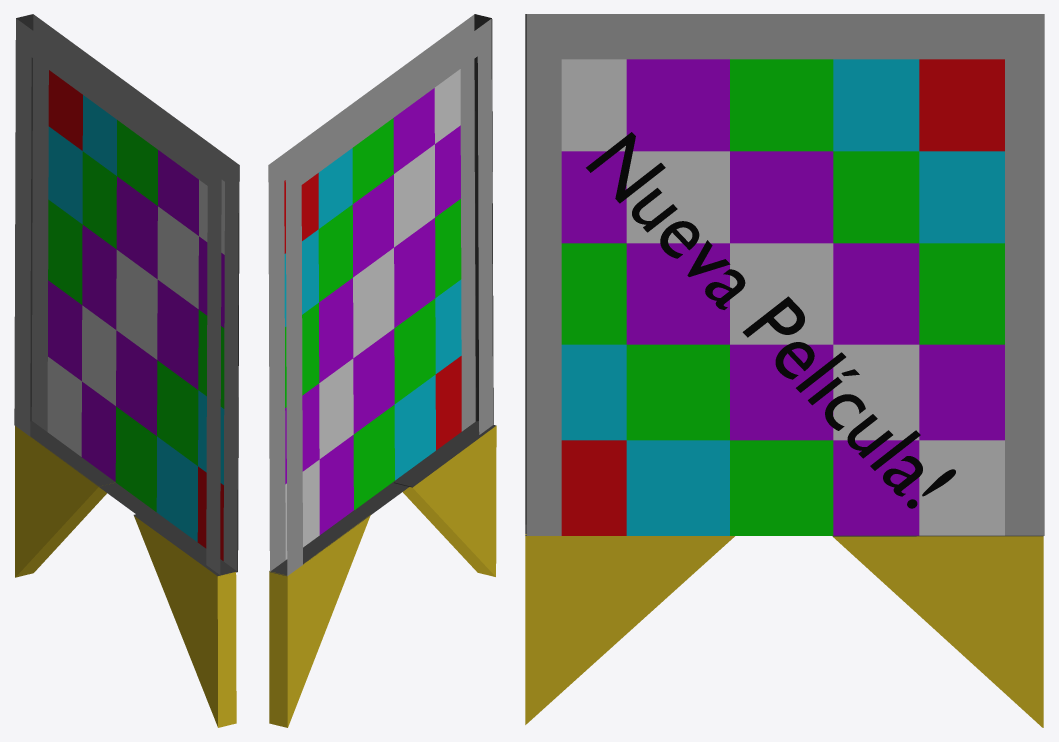
The model's file is cartelera.fbx.
The picture shows the model from 3 angles, left to right: view 1: azimuth 30°, elevation 25°; view 2: azimuth 150°, elevation 25°; view 3: azimuth 270°, elevation 25°; orthographic projection. The views are drawn at different scales.
Visible parts, largest first — view 1: Plane; view 2: Plane; view 3: Plane, Text.
Part boxes in pixels (x1,y1,x2,y2): Plane: [14, 14, 239, 727]; Plane: [268, 14, 496, 727]; Plane: [525, 14, 1044, 727]; Text: [586, 132, 955, 508].
Size of the model in its own units: 57.24 by 734 by 491.
